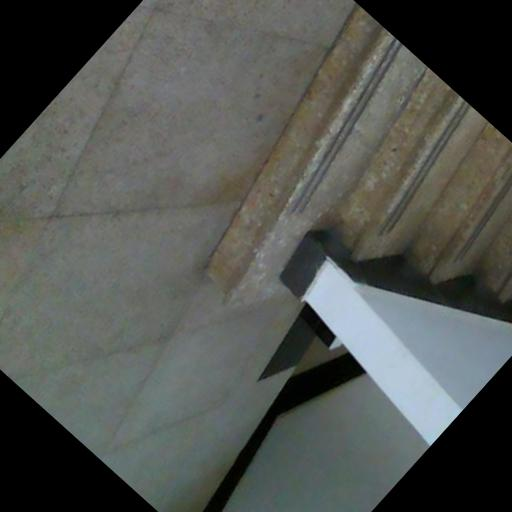stairs: (207, 4, 511, 301)
